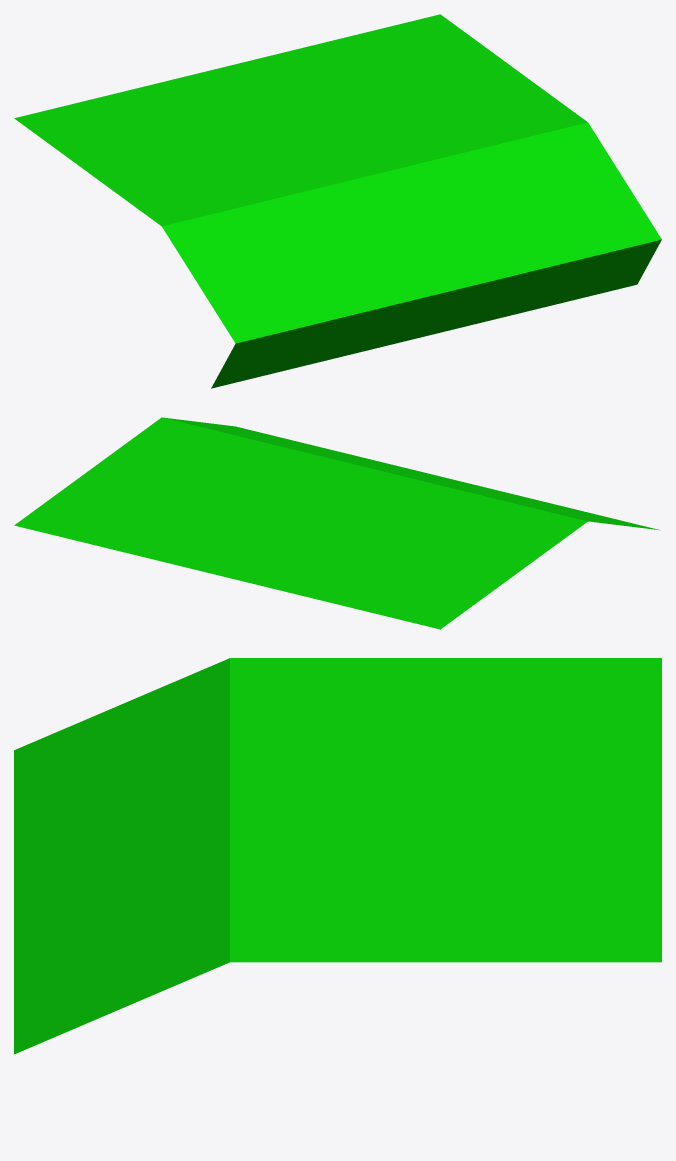
The model's file is Orthogonal_TopFloor.glb.
The picture shows the model from 3 angles, top to bottom: view 1: azimuth 30°, elevation 25°; view 2: azimuth 150°, elevation 25°; view 3: azimuth 270°, elevation 25°; orthographic projection. The views are drawn at different scales.
Parts seen in each view (by area): view 1: Orthogonal_TopFloor; view 2: Orthogonal_TopFloor; view 3: Orthogonal_TopFloor.
Part boxes in pixels (x1,y1,x2,y2): Orthogonal_TopFloor: [14, 14, 661, 388]; Orthogonal_TopFloor: [14, 417, 660, 629]; Orthogonal_TopFloor: [14, 658, 661, 1054].
Bounding box in the file's own units: 0.5 × 0.1414 × 0.45.
